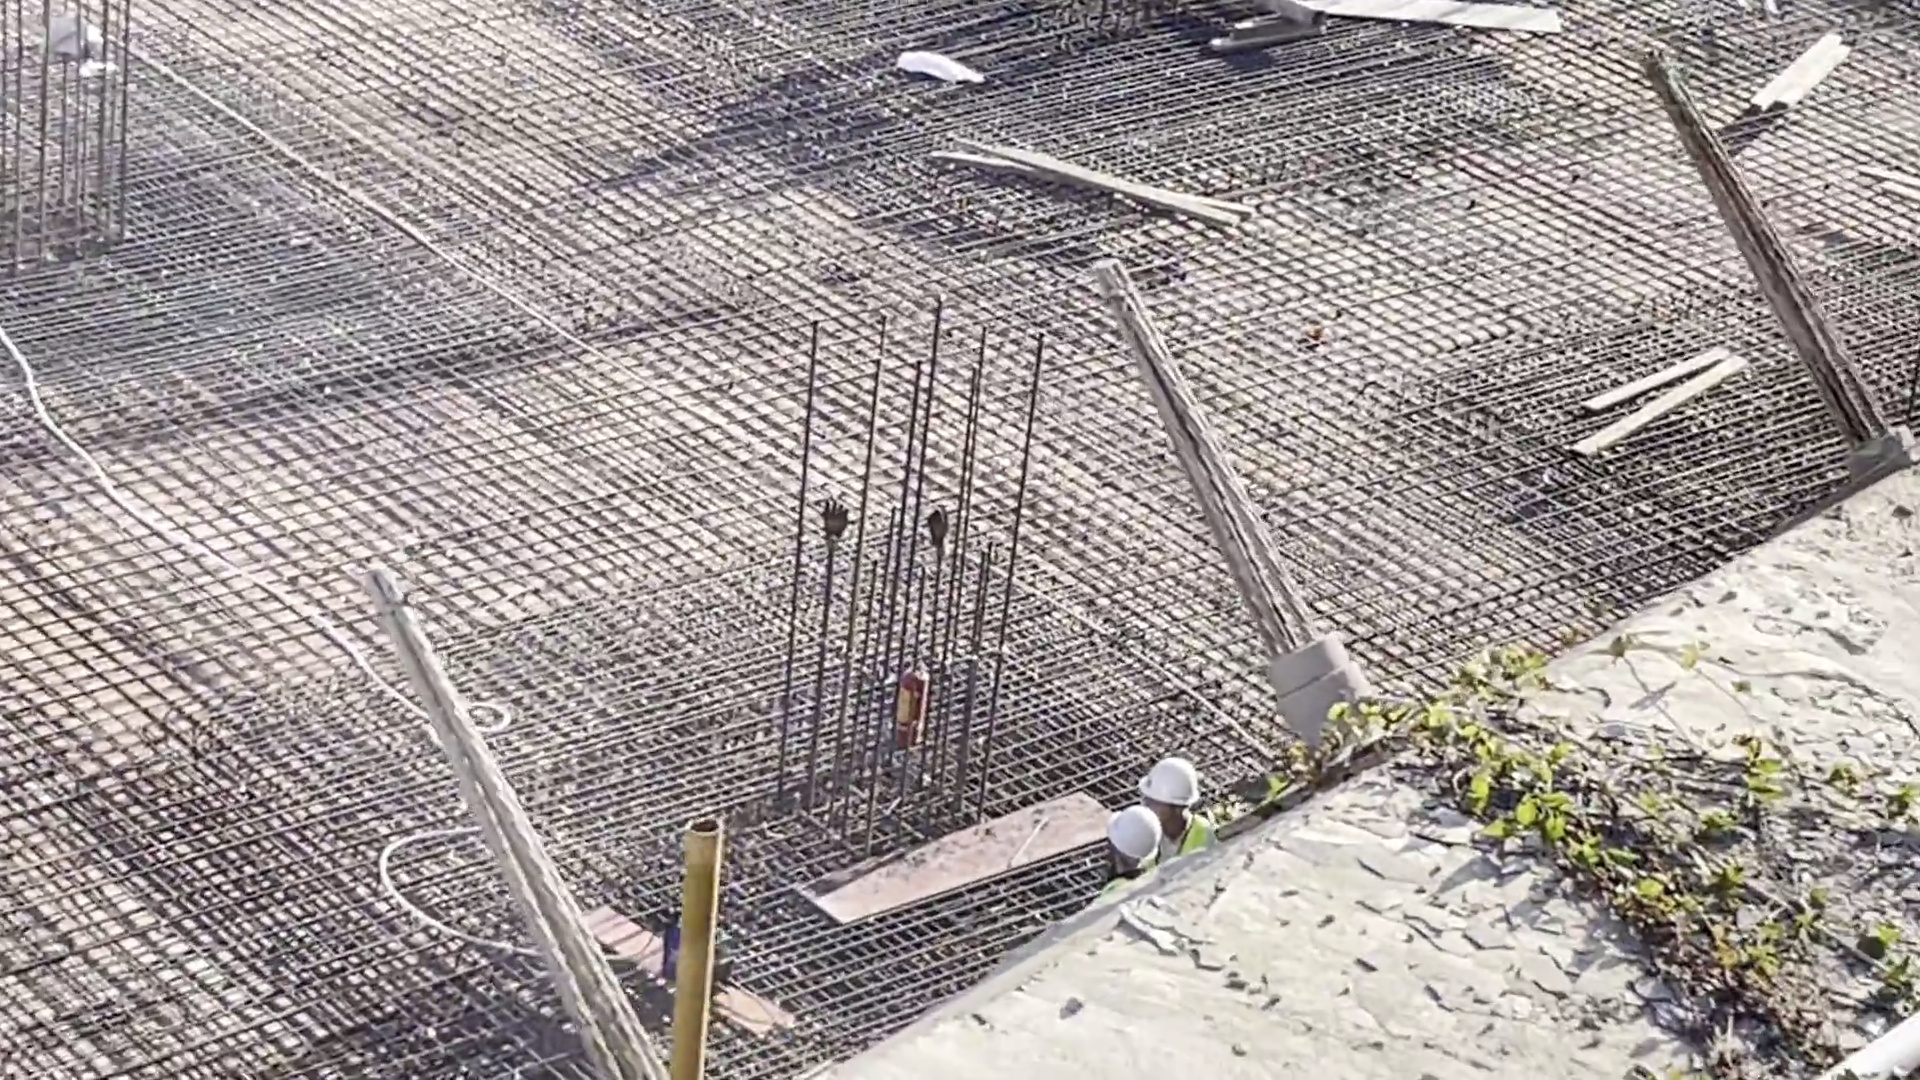helmet: (1138, 764, 1196, 802), (1109, 814, 1148, 856)
person: (1125, 758, 1218, 876), (1088, 804, 1169, 890)
vest: (1157, 815, 1213, 858)
